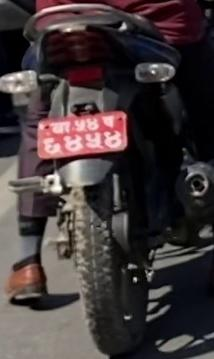license-plate: (33, 107, 147, 156)
